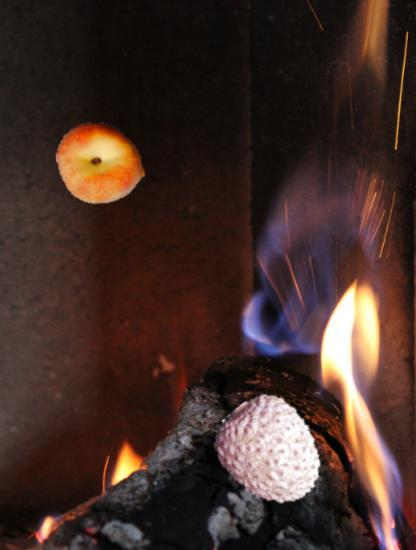Lychee: (214, 396, 329, 511)
Peach: (56, 118, 145, 207)
